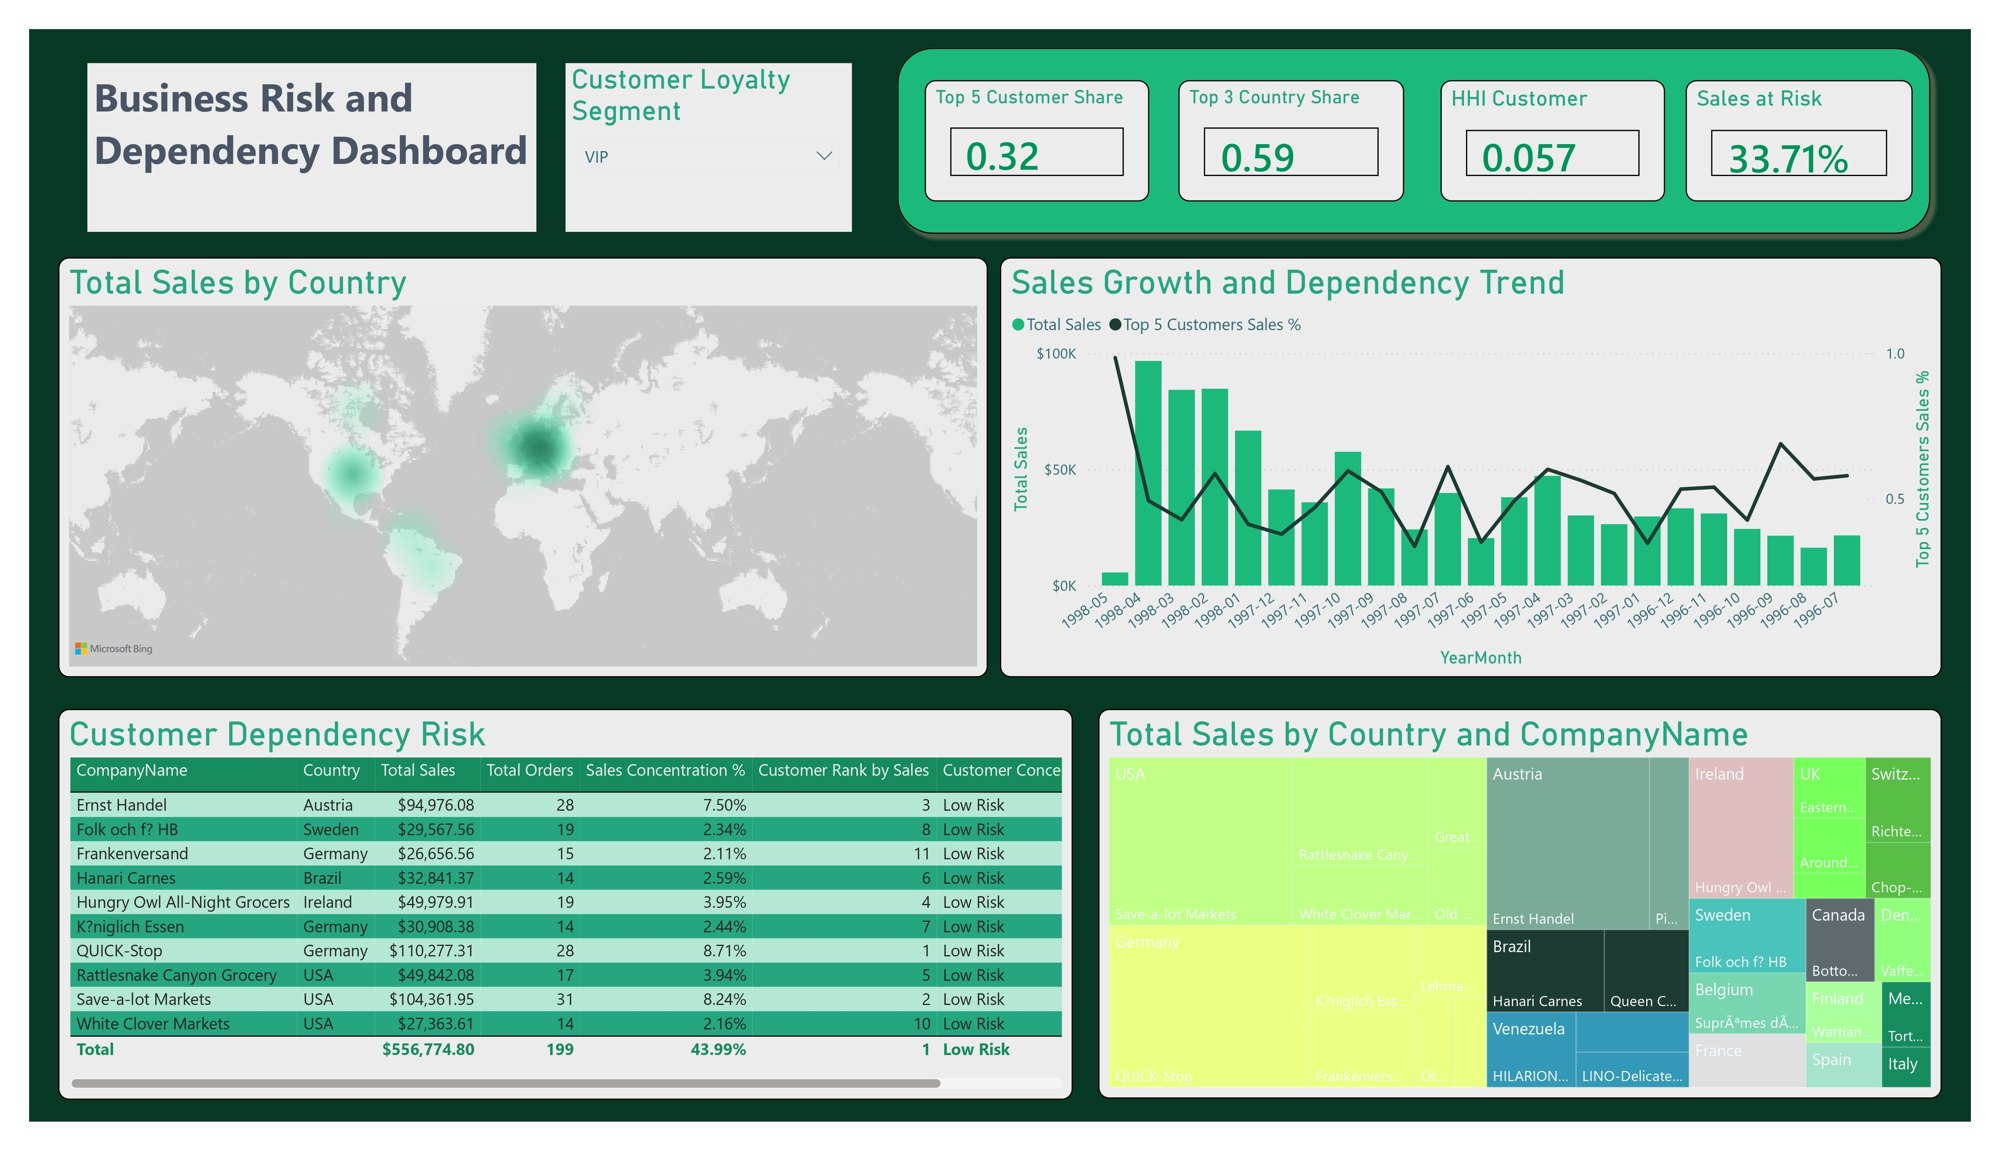

The page's visual inventory and layout, read from the dashboard file:
{"tool":"powerbi","page":{"name":"Business Risk & Dependency","canvas":[1600,900],"ordinal":4},"visuals":[{"type":"shape","box":[706.7,6.7,868.3,170],"z":0},{"type":"cardVisual","title":"Top 3 Country Share","fields":{"Data":["_Measures.Top 3 Countries Sales %"]},"box":[946.7,41.7,186.7,100],"z":1000},{"type":"cardVisual","title":"Top 5 Customer Share","fields":{"Data":["_Measures.Top 5 Customers Sales %"]},"box":[738.3,41.7,185,100],"z":2000},{"type":"cardVisual","title":"HHI Customer","fields":{"Data":["_Measures.HHI Customer Concentration"]},"box":[1163.3,41.7,185,100],"z":3000},{"type":"textbox","box":[48.3,28.3,370,138.3],"z":4000},{"type":"map","fields":{"Size":["_Measures.Total Sales"],"Category":["DimCustomer.Country"]},"box":[24,188,766,346],"z":5000},{"type":"tableEx","title":"Customer Dependency Risk","fields":{"Values":["DimCustomer.CompanyName","DimCustomer.Country","_Measures.Total Sales","_Measures.Total Orders","_Measures.Sales Concentration %","_Measures.Customer Rank by Sales","_Measures.Customer Concentration Risk Level"]},"box":[24,560,836,322],"z":6000},{"type":"treemap","title":"Total Sales by Country and CompanyName","fields":{"Group":["DimCustomer.Country"],"Values":["_Measures.Total Sales"],"Details":["DimCustomer.CompanyName"]},"box":[881.4,560,694.3,321.4],"z":7000},{"type":"lineClusteredColumnComboChart","title":"Sales Growth and Dependency Trend","fields":{"Y":["_Measures.Total Sales"],"Category":["DimDate.YearMonth"],"Y2":["_Measures.Top 5 Customers Sales %"]},"box":[800,188,776,346],"z":8000},{"type":"cardVisual","title":"Sales at Risk","fields":{"Data":["_Measures.Sales Impact of Losing Top 3 Customers"]},"box":[1365,41.7,186.7,100],"z":9000},{"type":"slicer","title":"Customer Loyalty Segment ","fields":{"Values":["DimCustomer.Customer Loyalty Segment Column"]},"box":[441.7,28.3,236.7,138.3],"z":10000}]}

Visuals, with their boxes in screenshot pixels (x1, y1, x2, y2), scaled from the page's 1600x900 canvas onto the 2000x1151 screenshot:
shape: rect(883, 9, 1969, 226)
"Top 3 Country Share" cardVisual: rect(1183, 53, 1417, 181)
"Top 5 Customer Share" cardVisual: rect(923, 53, 1154, 181)
"HHI Customer" cardVisual: rect(1454, 53, 1685, 181)
textbox: rect(60, 36, 523, 213)
map - _Measures.Total Sales x DimCustomer.Country: rect(30, 240, 988, 683)
"Customer Dependency Risk" tableEx: rect(30, 716, 1075, 1128)
"Total Sales by Country and CompanyName" treemap: rect(1102, 716, 1970, 1127)
"Sales Growth and Dependency Trend" lineClusteredColumnComboChart: rect(1000, 240, 1970, 683)
"Sales at Risk" cardVisual: rect(1706, 53, 1940, 181)
"Customer Loyalty Segment " slicer: rect(552, 36, 848, 213)
